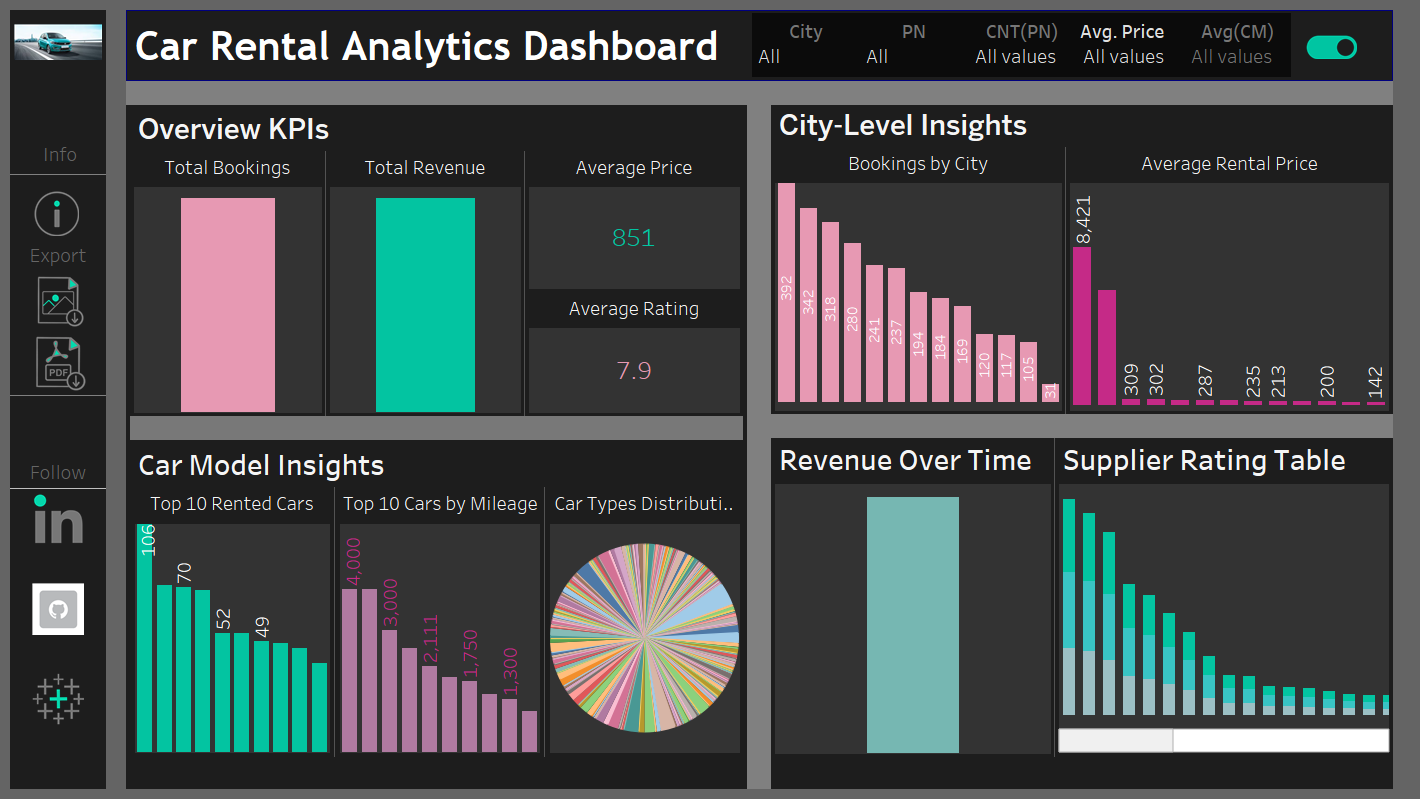

This screenshot's page, from the dashboard's own definition file:
{"tool":"tableau","page":{"name":"Car Rental Analytics Dashboard","canvas":[1420,800],"ordinal":0},"visuals":[{"type":"blank","box":[106,0,1315,158]},{"type":"image","param":"C:/Users/saike/OneDrive/Desktop/Car_Rental_Dashboard/Icons & Images/car.jpeg","box":[10,10,96,64]},{"type":"text","box":[127,11,1265,69]},{"type":"filter","title":"Total Bookings","param":"[federated.0pzei6y114s6os16rm72b0pby1cq].[none:city:nk]","box":[752,13,108,64]},{"type":"filter","title":"Car Types Distribution","param":"[federated.0pzei6y114s6os16rm72b0pby1cq].[none:product_name:nk]","box":[860,13,108,64]},{"type":"filter","title":"Top 10 Rented Car Models","param":"[federated.0pzei6y114s6os16rm72b0pby1cq].[cnt:product_name:qk]","box":[968,13,108,64]},{"type":"filter","title":"Average Rental Price by City","param":"[federated.0pzei6y114s6os16rm72b0pby1cq].[avg:price:qk]","box":[1076,13,108,64]},{"type":"filter","title":"Top 10 Cars by Mileage","param":"[federated.0pzei6y114s6os16rm72b0pby1cq].[avg:Calculation_1630303088599289859:qk","box":[1184,13,107,64]},{"type":"dashboard-object","box":[1306,23,51,48]},{"type":"blank","box":[10,74,96,60]},{"type":"blank","box":[126,81,1267,24]},{"type":"blank","box":[747.5,105,24,684]},{"type":"text","box":[771.5,105,621.5,42]},{"type":"text","box":[130,109,613.5,42]},{"type":"text","box":[10,134,96,40]},{"type":"text","box":[771.5,147,294,32]},{"type":"blank","box":[1065.5,147,1,267]},{"type":"text","box":[1066.5,147,326.4,32]},{"type":"text","box":[130,151,195,32]},{"type":"blank","box":[325,151,1,265]},{"type":"text","box":[326,151,198.5,32]},{"type":"blank","box":[524.5,151,1,265]},{"type":"text","box":[525.5,151,218,32]},{"type":"text","box":[106,158,1315,355]},{"type":"blank","box":[10,174,96,1]},{"type":"blank","box":[10,175,96,64]},{"type":"worksheet","title":"Bookings by City","mark":"Bar","rows":["product_name"],"cols":["city"],"box":[771.5,179,294,235]},{"type":"worksheet","title":"Average Rental Price by City","mark":"Automatic","rows":["price"],"cols":["city"],"box":[1066.5,179,326.4,235]},{"type":"worksheet","title":"Total Bookings","mark":"Automatic","rows":["product_name"],"box":[130,183,195,233]},{"type":"worksheet","title":"Total Revenue","mark":"Bar","rows":["total_price"],"box":[326,183,198.5,233]},{"type":"worksheet","title":"Average Price","mark":"Automatic","box":[525.5,183,218,109]},{"type":"dashboard-object","box":[30,191,54,45]},{"type":"text","box":[10,239,96,32]},{"type":"dashboard-object","box":[10,271,96,60]},{"type":"text","box":[525.5,292,218,32]},{"type":"worksheet","title":" Average Rating","mark":"Automatic","box":[525.5,324,218,92]},{"type":"dashboard-object","box":[10,331,96,64]},{"type":"blank","box":[10,395,96,1]},{"type":"blank","box":[10,396,96,60]},{"type":"blank","box":[771.5,414,621.5,24]},{"type":"blank","box":[130,416,613.5,24]},{"type":"text","box":[771.5,438,283,42]},{"type":"blank","box":[1054.5,438,1,319]},{"type":"text","box":[1055.5,438,337.5,42]},{"type":"text","box":[130,440,613.5,47]},{"type":"text","box":[10,456,96,32]},{"type":"worksheet","title":"Revenue Over Time","mark":"Bar","rows":["total_price"],"cols":["start_date"],"box":[771.5,480,283,277]},{"type":"worksheet","title":"Supplier Rating Table","mark":"Bar","cols":["supplier_name"],"box":[1055.5,480,337.5,277]},{"type":"text","box":[130,487,204,32]},{"type":"blank","box":[334,487,1,270]},{"type":"text","box":[335,487,209,32]},{"type":"blank","box":[544,487,1,270]},{"type":"text","box":[545,487,198.5,32]},{"type":"blank","box":[10,488,96,1]},{"type":"image","param":"C:/Users/saike/OneDrive/Desktop/Car_Rental_Dashboard/Icons & Images/contact-link","box":[10,489,96,60]},{"type":"blank","box":[106,513,1315,287]},{"type":"worksheet","title":"Top 10 Rented Car Models","mark":"Bar","rows":["product_name"],"cols":["product_name"],"box":[130,519,204,238]},{"type":"worksheet","title":"Top 10 Cars by Mileage","mark":"Automatic","rows":["Calculation_1630303088599289859"],"cols":["product_name"],"box":[335,519,209,238]},{"type":"worksheet","title":"Car Types Distribution","mark":"Pie","box":[545,519,198.5,238]},{"type":"blank","box":[10,549,96,30]},{"type":"image","param":"C:/Users/saike/OneDrive/Desktop/Car_Rental_Dashboard/Icons & Images/github.png","box":[10,579,96,60]},{"type":"blank","box":[10,639,96,30]},{"type":"image","param":"C:/Users/saike/OneDrive/Desktop/Car_Rental_Dashboard/Icons & Images/contact-publ","box":[10,669,96,60]},{"type":"blank","box":[10,729,96,60]}]}

Visuals, with their boxes on the page's 1420x800 design canvas (x1, y1, x2, y2). These are canvas units, not pixel positions in the 1420x800 screenshot, which may show the page scaled, cropped or inside an application window:
blank: x1=106 y1=0 x2=1421 y2=158
image: x1=10 y1=10 x2=106 y2=74
text: x1=127 y1=11 x2=1392 y2=80
"Total Bookings" filter: x1=752 y1=13 x2=860 y2=77
"Car Types Distribution" filter: x1=860 y1=13 x2=968 y2=77
"Top 10 Rented Car Models" filter: x1=968 y1=13 x2=1076 y2=77
"Average Rental Price by City" filter: x1=1076 y1=13 x2=1184 y2=77
"Top 10 Cars by Mileage" filter: x1=1184 y1=13 x2=1291 y2=77
dashboard-object: x1=1306 y1=23 x2=1357 y2=71
blank: x1=10 y1=74 x2=106 y2=134
blank: x1=126 y1=81 x2=1393 y2=105
blank: x1=748 y1=105 x2=772 y2=789
text: x1=772 y1=105 x2=1393 y2=147
text: x1=130 y1=109 x2=744 y2=151
text: x1=10 y1=134 x2=106 y2=174
text: x1=772 y1=147 x2=1066 y2=179
blank: x1=1066 y1=147 x2=1066 y2=414
text: x1=1066 y1=147 x2=1393 y2=179
text: x1=130 y1=151 x2=325 y2=183
blank: x1=325 y1=151 x2=326 y2=416
text: x1=326 y1=151 x2=524 y2=183
blank: x1=524 y1=151 x2=526 y2=416
text: x1=526 y1=151 x2=744 y2=183
text: x1=106 y1=158 x2=1421 y2=513
blank: x1=10 y1=174 x2=106 y2=175
blank: x1=10 y1=175 x2=106 y2=239
"Bookings by City" worksheet (Bar marks): x1=772 y1=179 x2=1066 y2=414
"Average Rental Price by City" worksheet: x1=1066 y1=179 x2=1393 y2=414
"Total Bookings" worksheet: x1=130 y1=183 x2=325 y2=416
"Total Revenue" worksheet (Bar marks): x1=326 y1=183 x2=524 y2=416
"Average Price" worksheet: x1=526 y1=183 x2=744 y2=292
dashboard-object: x1=30 y1=191 x2=84 y2=236
text: x1=10 y1=239 x2=106 y2=271
dashboard-object: x1=10 y1=271 x2=106 y2=331
text: x1=526 y1=292 x2=744 y2=324
" Average Rating" worksheet: x1=526 y1=324 x2=744 y2=416
dashboard-object: x1=10 y1=331 x2=106 y2=395
blank: x1=10 y1=395 x2=106 y2=396
blank: x1=10 y1=396 x2=106 y2=456
blank: x1=772 y1=414 x2=1393 y2=438
blank: x1=130 y1=416 x2=744 y2=440
text: x1=772 y1=438 x2=1054 y2=480
blank: x1=1054 y1=438 x2=1056 y2=757
text: x1=1056 y1=438 x2=1393 y2=480
text: x1=130 y1=440 x2=744 y2=487
text: x1=10 y1=456 x2=106 y2=488
"Revenue Over Time" worksheet (Bar marks): x1=772 y1=480 x2=1054 y2=757
"Supplier Rating Table" worksheet (Bar marks): x1=1056 y1=480 x2=1393 y2=757
text: x1=130 y1=487 x2=334 y2=519
blank: x1=334 y1=487 x2=335 y2=757
text: x1=335 y1=487 x2=544 y2=519
blank: x1=544 y1=487 x2=545 y2=757
text: x1=545 y1=487 x2=744 y2=519
blank: x1=10 y1=488 x2=106 y2=489
image: x1=10 y1=489 x2=106 y2=549
blank: x1=106 y1=513 x2=1421 y2=800
"Top 10 Rented Car Models" worksheet (Bar marks): x1=130 y1=519 x2=334 y2=757
"Top 10 Cars by Mileage" worksheet: x1=335 y1=519 x2=544 y2=757
"Car Types Distribution" worksheet (Pie marks): x1=545 y1=519 x2=744 y2=757
blank: x1=10 y1=549 x2=106 y2=579
image: x1=10 y1=579 x2=106 y2=639
blank: x1=10 y1=639 x2=106 y2=669
image: x1=10 y1=669 x2=106 y2=729
blank: x1=10 y1=729 x2=106 y2=789
